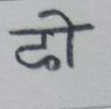i_matra: (52, 9, 80, 66)
